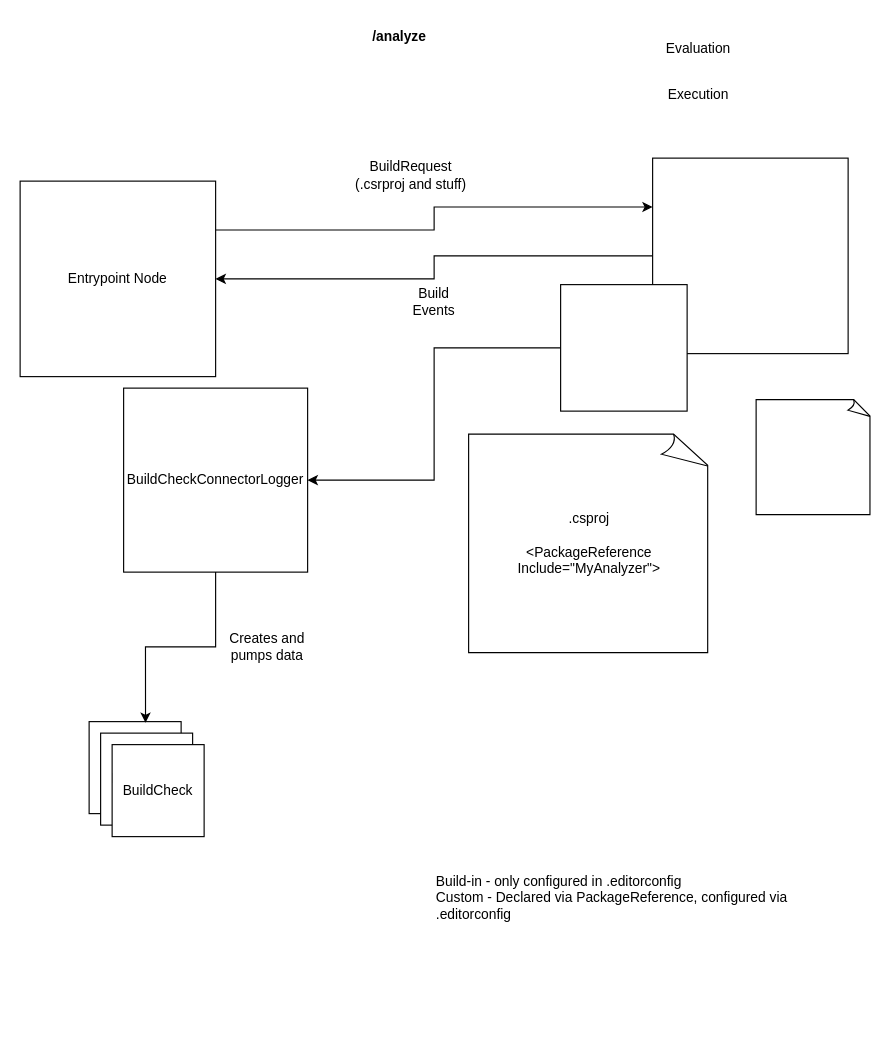
The diagram is 891 pixels wide and 1051 high, and some of its shapes have lost their labels. Each missing label, with the box of its shape:
.editorconfig: (755, 398, 871, 515)
BuildCheck ForwardingLogger: (559, 283, 687, 411)
Worker Node: (651, 157, 848, 354)
